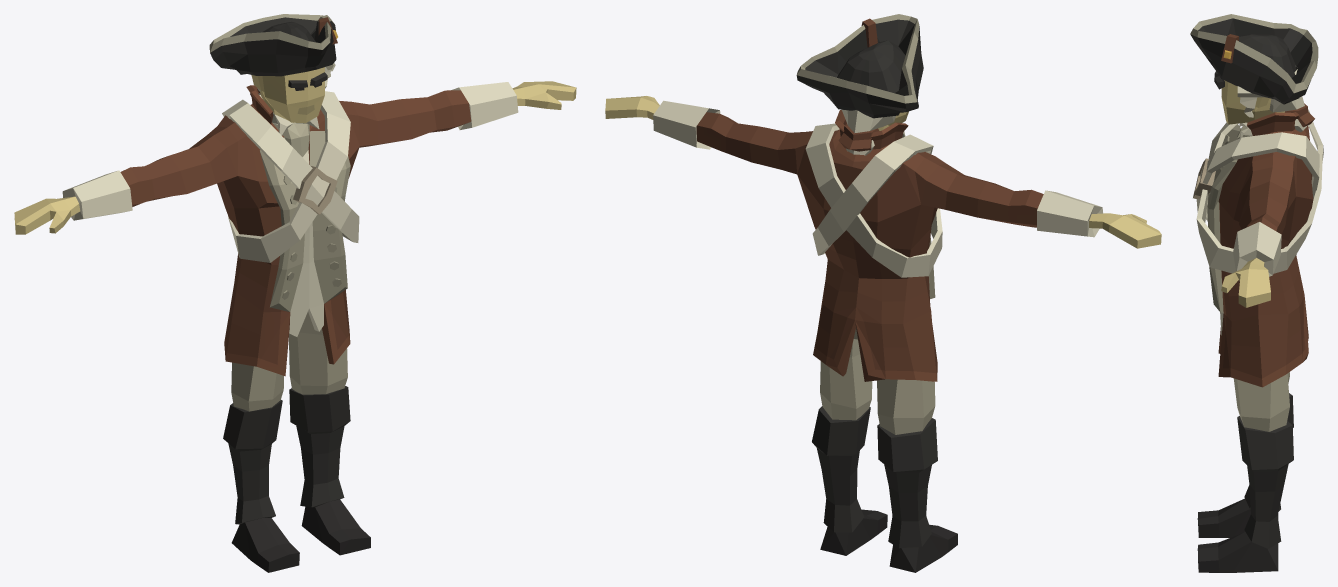
Rendered from Soldier.fbx.
The picture shows the model from 3 angles, left to right: view 1: azimuth 30°, elevation 25°; view 2: azimuth 150°, elevation 25°; view 3: azimuth 270°, elevation 25°; orthographic projection.
Parts seen in each view (by area): view 1: Soldier; view 2: Soldier; view 3: Soldier.
Boxes of the visible parts, x1,y1,x2,y2 form: Soldier: (14, 14, 576, 572); Soldier: (605, 14, 1161, 572); Soldier: (1190, 14, 1323, 572).
Size of the model in its own units: 205 by 183 by 42.31.
